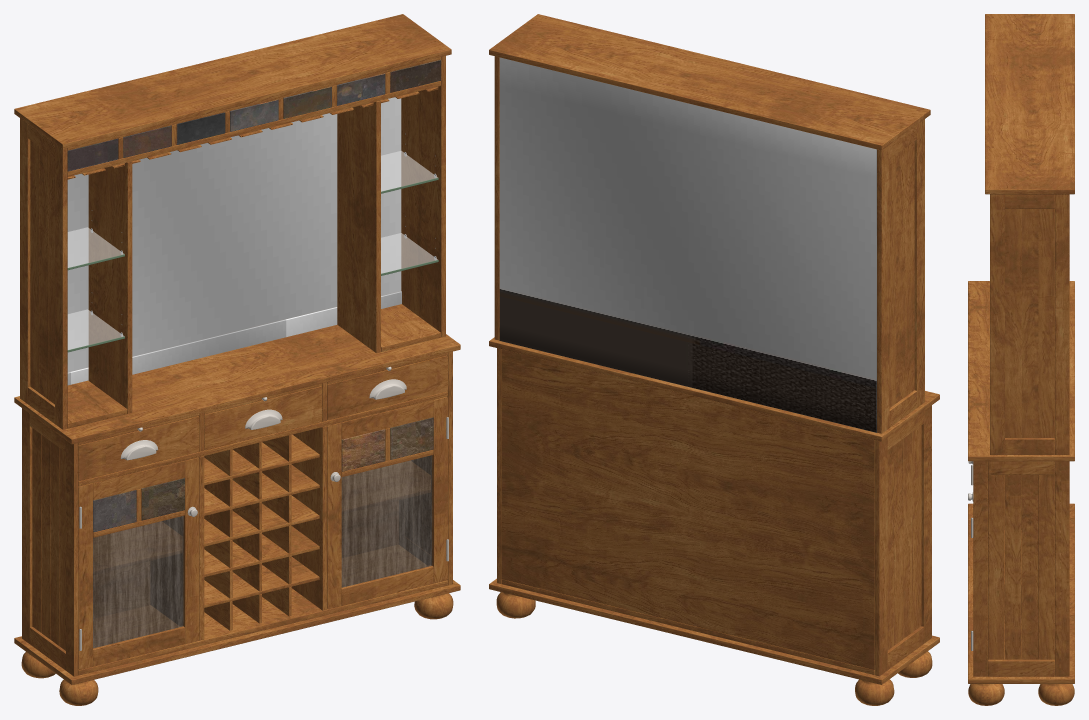
File: bar.gltf
3 views of the same model, side by side, from view 1: azimuth 30°, elevation 25°; view 2: azimuth 150°, elevation 25°; view 3: azimuth 270°, elevation 25° (orthographic). The views are drawn at different scales.
Visible parts, largest first — view 1: BackBarMesh, Back_MirrorMesh, Glass1Mesh, Prop_StoneMesh, Glass2Mesh, Handle_HingeMesh; view 2: BackBarMesh, Back_MirrorMesh; view 3: BackBarMesh, Handle_HingeMesh.
Boxes of the visible parts, bbox=[...] form: BackBarMesh: bbox=[14, 14, 460, 705]; Back_MirrorMesh: bbox=[67, 97, 401, 385]; Glass1Mesh: bbox=[93, 455, 432, 648]; Prop_StoneMesh: bbox=[67, 59, 441, 532]; Glass2Mesh: bbox=[67, 151, 437, 349]; Handle_HingeMesh: bbox=[79, 366, 448, 650]; BackBarMesh: bbox=[489, 14, 939, 705]; Back_MirrorMesh: bbox=[499, 57, 876, 432]; BackBarMesh: bbox=[968, 14, 1074, 705]; Handle_HingeMesh: bbox=[968, 461, 973, 650].
Bounding box in the file's own units: 1.38 × 1.9 × 0.3556.
8 materials, 4 textured.
